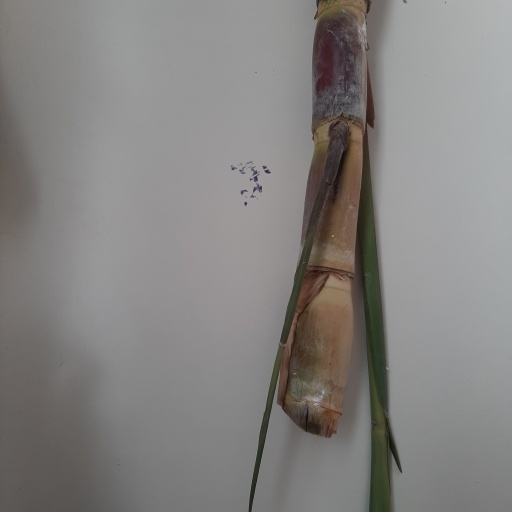Sprouted_Bud: (325, 121, 352, 178)
